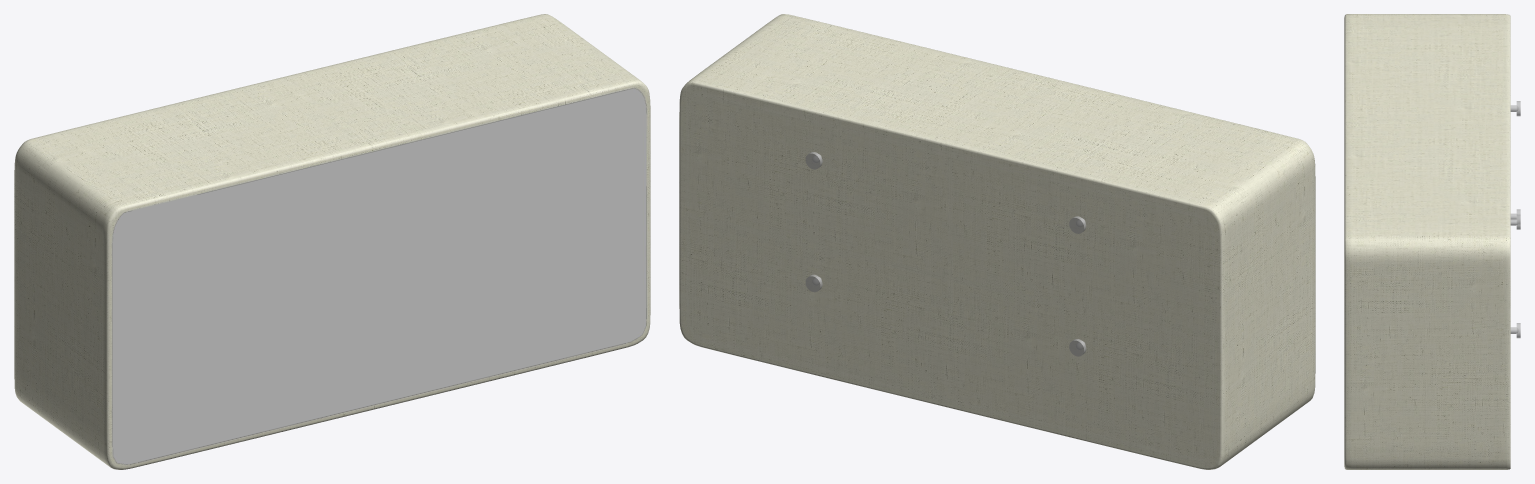
The model's file is archer_lacquered_linen_low_dresser.glb.
3 renders of one model, left to right at view 1: azimuth 30°, elevation 25°; view 2: azimuth 150°, elevation 25°; view 3: azimuth 270°, elevation 25°, orthographic. The views are drawn at different scales.
Parts seen in each view (by area): view 1: 698b934a-3e6d-42d6-93ca-04ac68cd7d66; view 2: 698b934a-3e6d-42d6-93ca-04ac68cd7d66 (×2); view 3: 698b934a-3e6d-42d6-93ca-04ac68cd7d66 (×2).
Boxes of the visible parts, x1,y1,x2,y2 form: 698b934a-3e6d-42d6-93ca-04ac68cd7d66: [14, 14, 650, 469]; 698b934a-3e6d-42d6-93ca-04ac68cd7d66 (×2): [679, 14, 1315, 469]; 698b934a-3e6d-42d6-93ca-04ac68cd7d66 (×2): [1344, 14, 1520, 469].
Bounding box in the file's own units: 150 × 71.7 × 47.76.
Materials: 2 (2 with a texture image).
